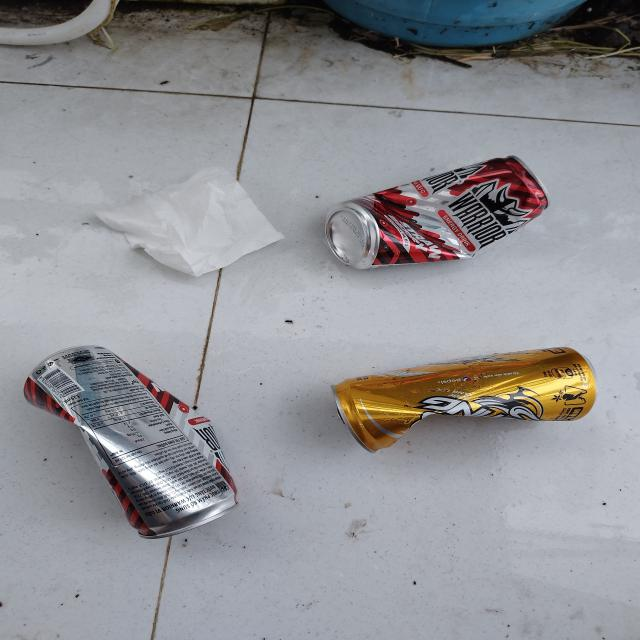can: (24, 344, 241, 540), (330, 346, 598, 453), (324, 154, 550, 271)
napkin: (90, 166, 286, 279)
